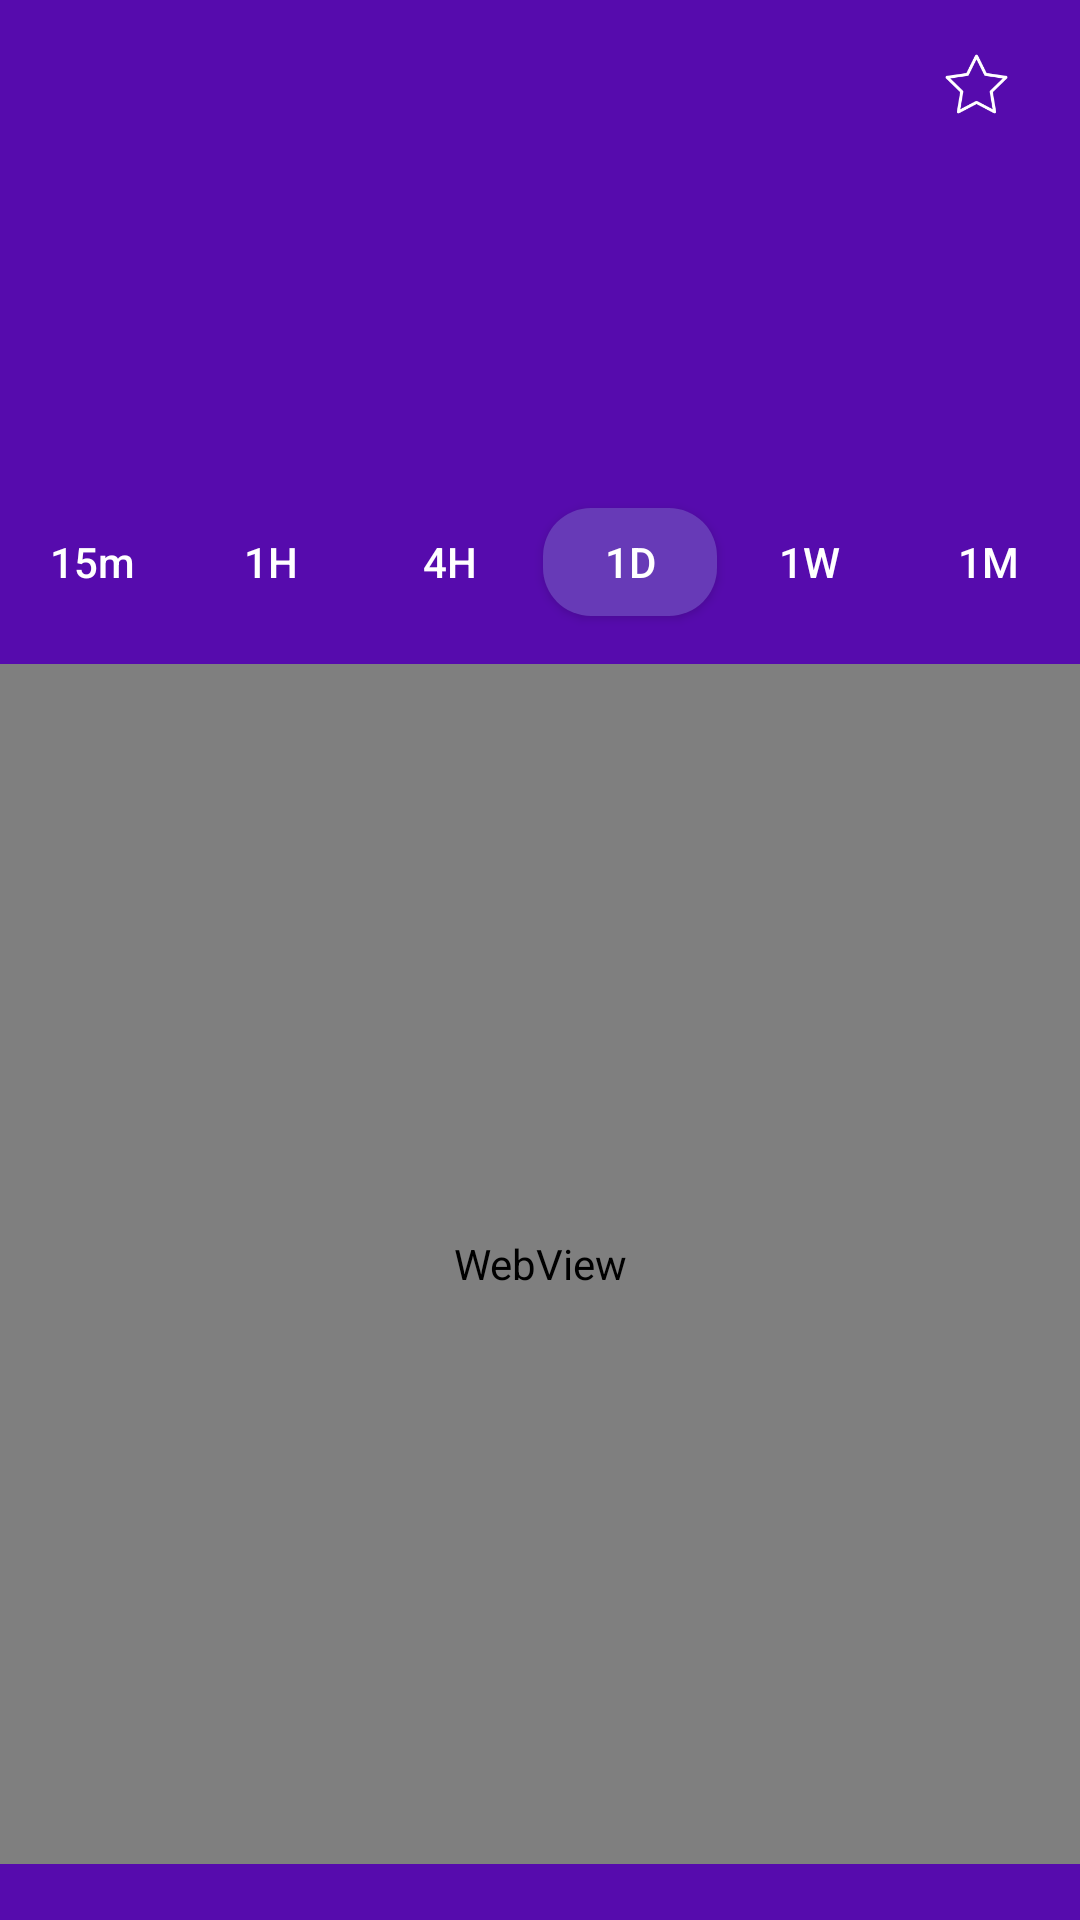

Screen size 1080*1920. Icon name, then its box in pixels as (x1, y1, x2, y2):
before bookmark: (945, 54, 1008, 114)
